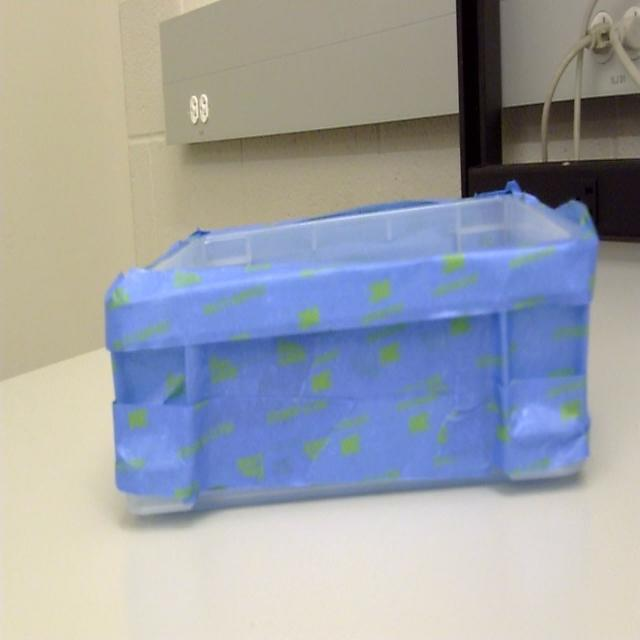bucket: (102, 188, 601, 522)
